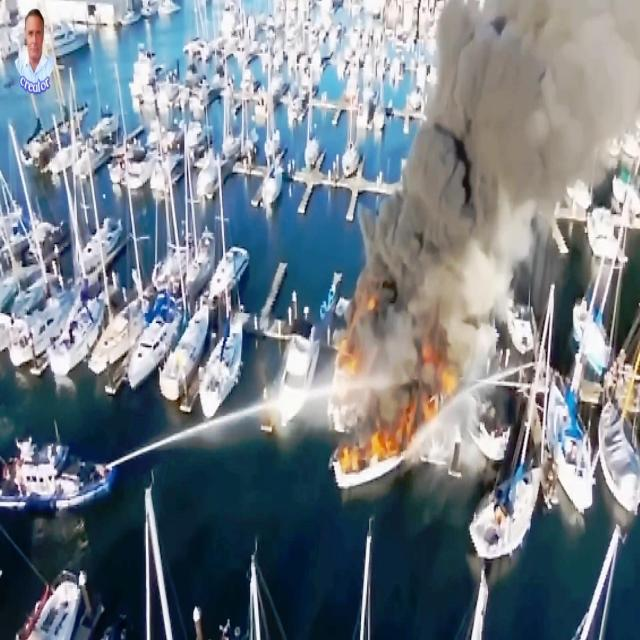Fire: (342, 410, 400, 480)
Smoke: (434, 19, 529, 300), (448, 2, 634, 126), (378, 150, 466, 294)
